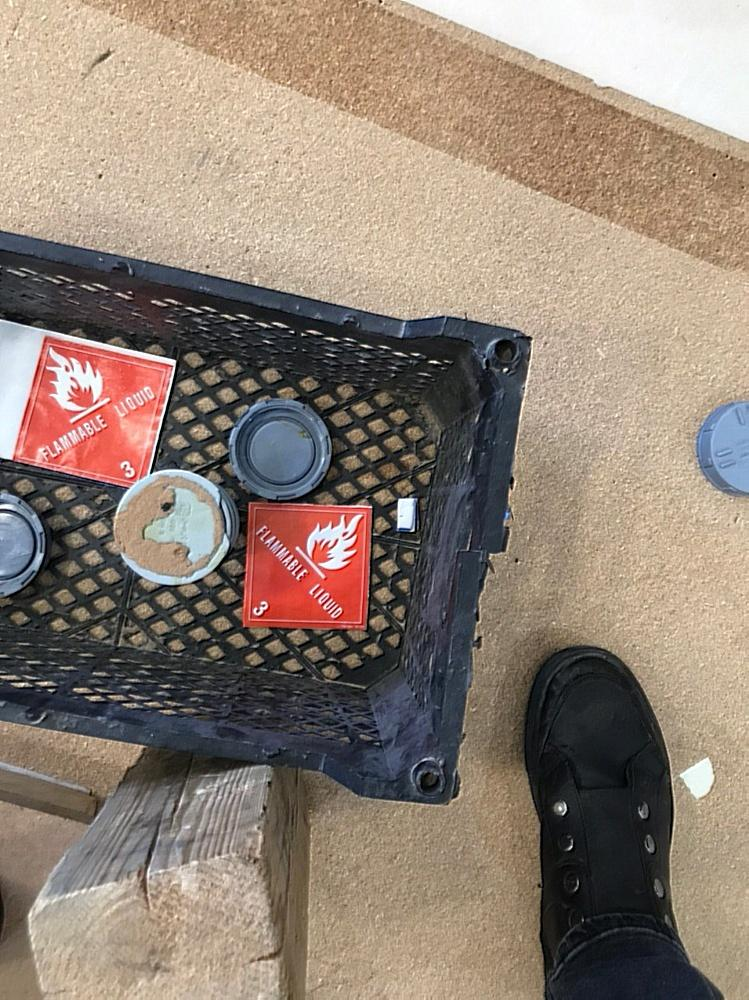flammable: (11, 333, 178, 496), (243, 501, 370, 628)
